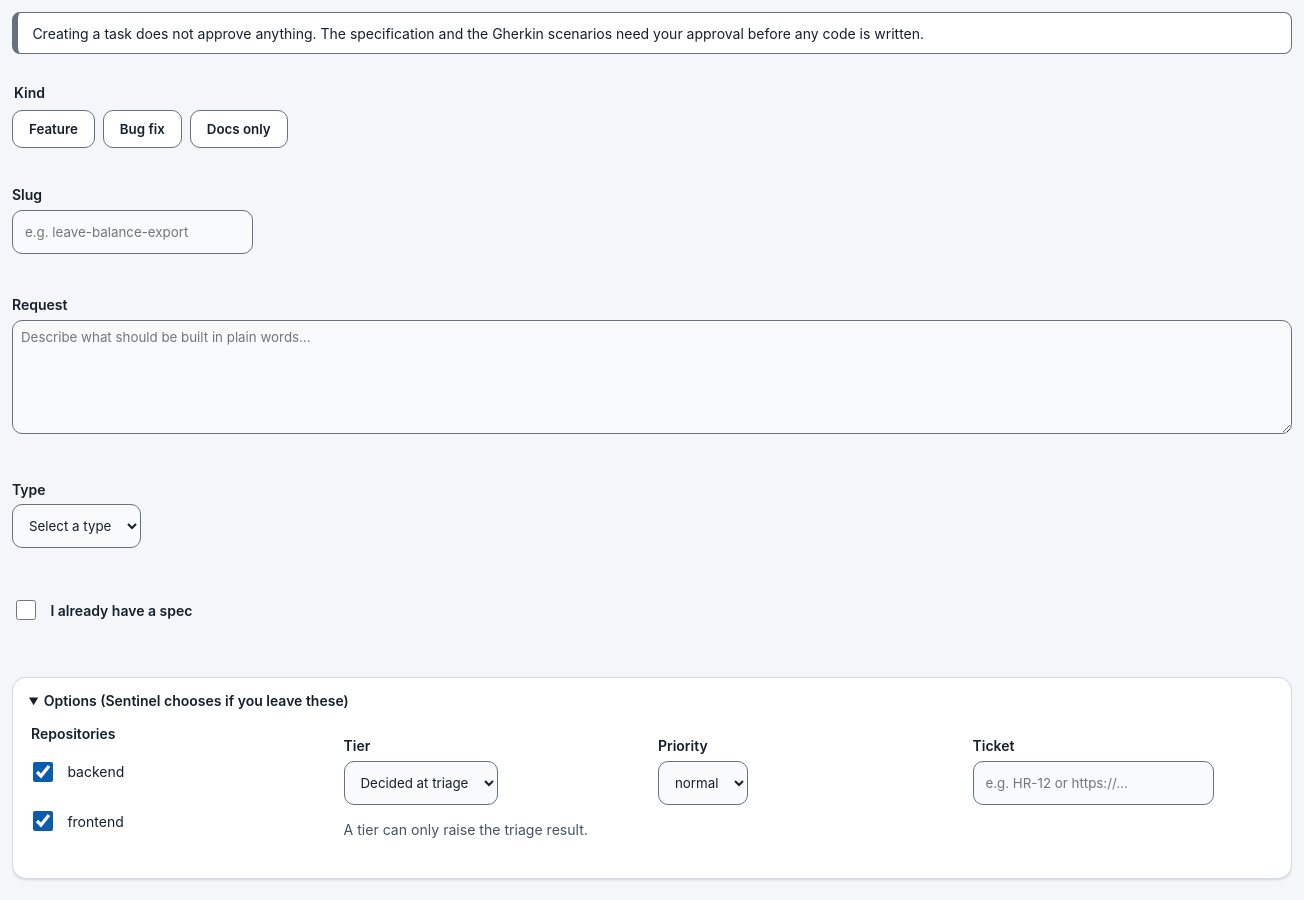
Scenario: AC-TSK-01n the form checks fields before sending › AC-TSK-01n field slug value Bad Slug
This screenshot has width=1304, height=900.
Type "leave-report" into the field labelled "Slug" at {"x": 132, "y": 232}, box [12,210,253,254]
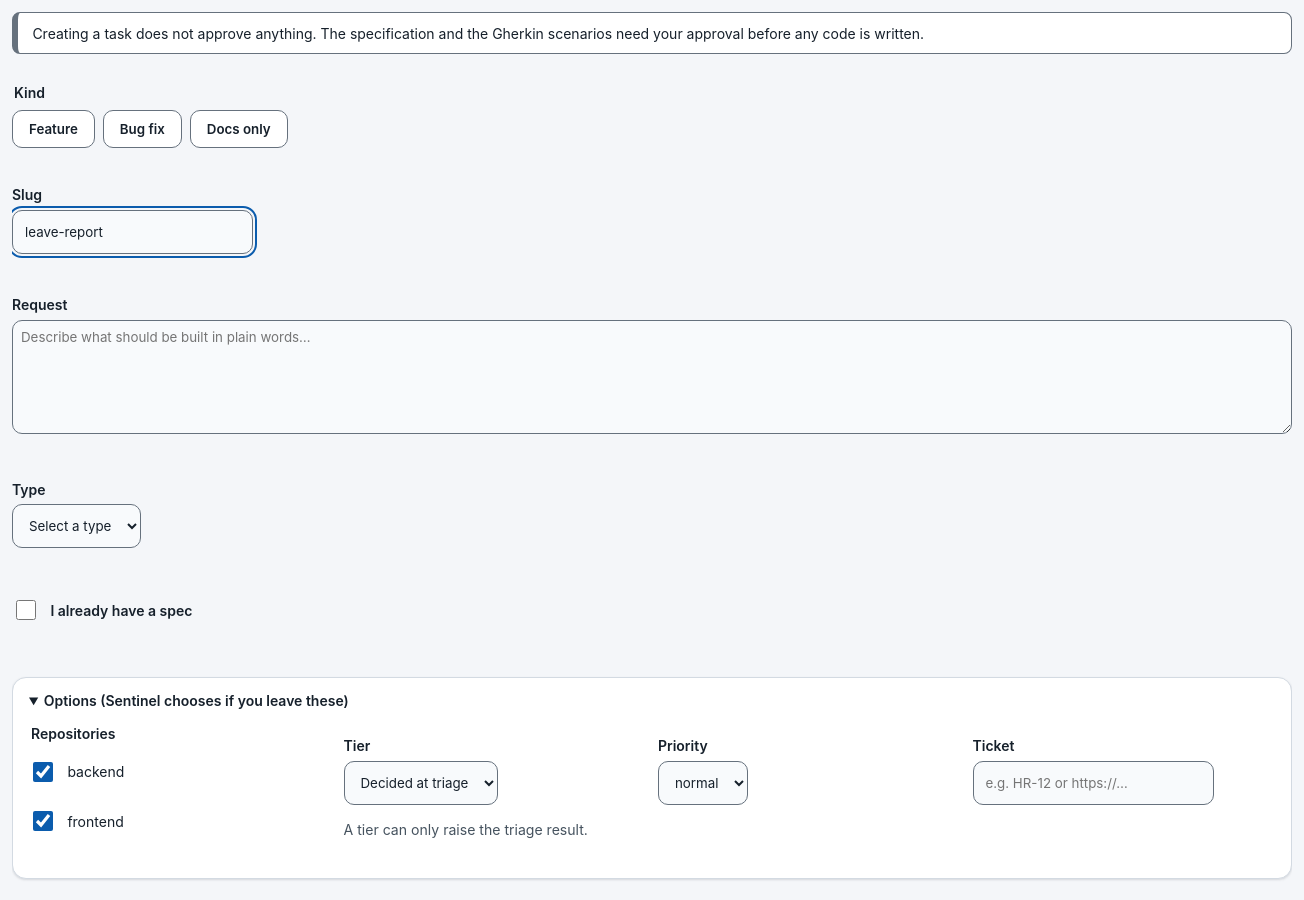
Type "Report leave per team" into the text box labelled "Request" at {"x": 652, "y": 377}, box [12,320,1292,434]
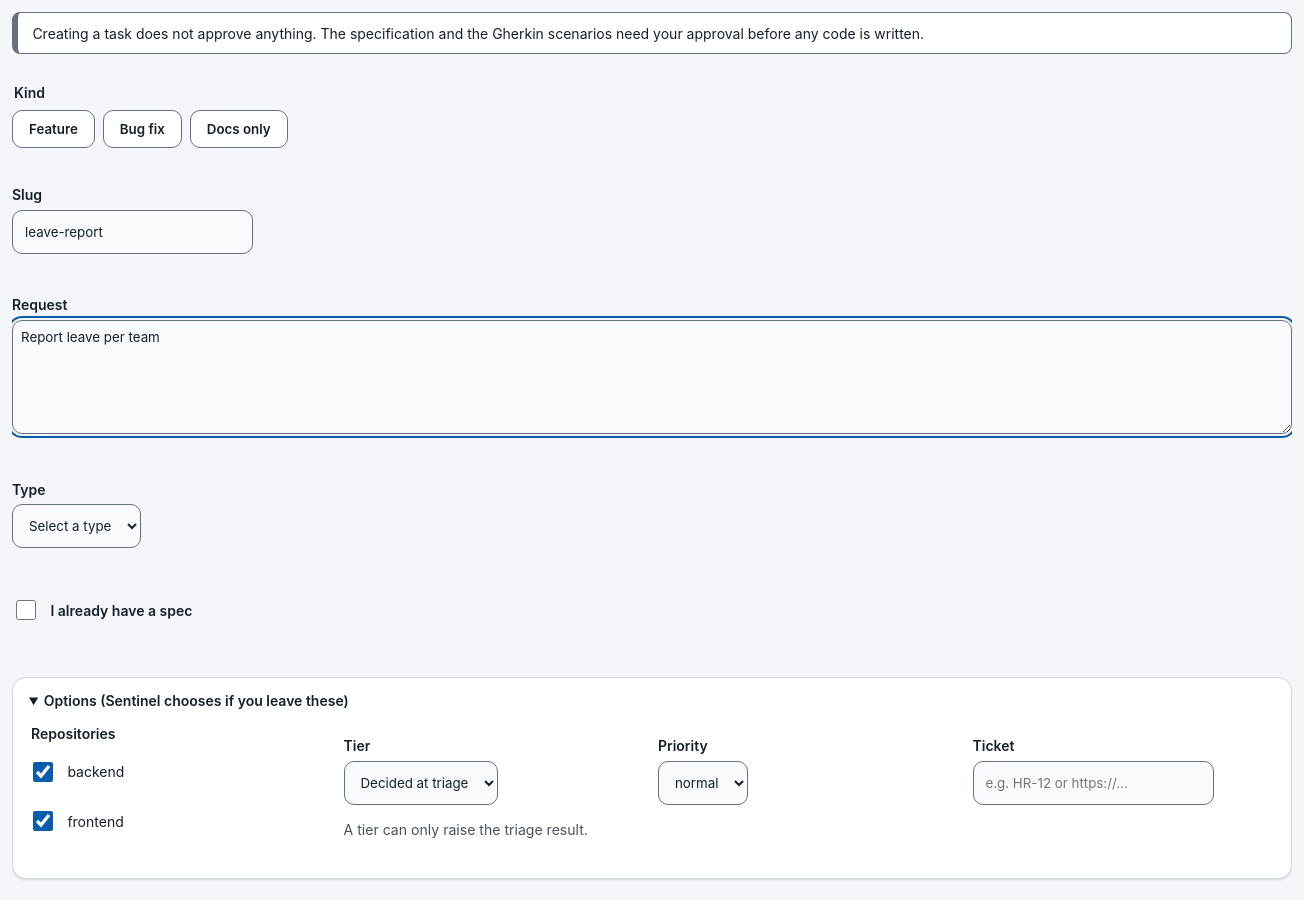
Select "feature" in the dropdown labelled "Type" at {"x": 76, "y": 526}, box [12,504,141,548]
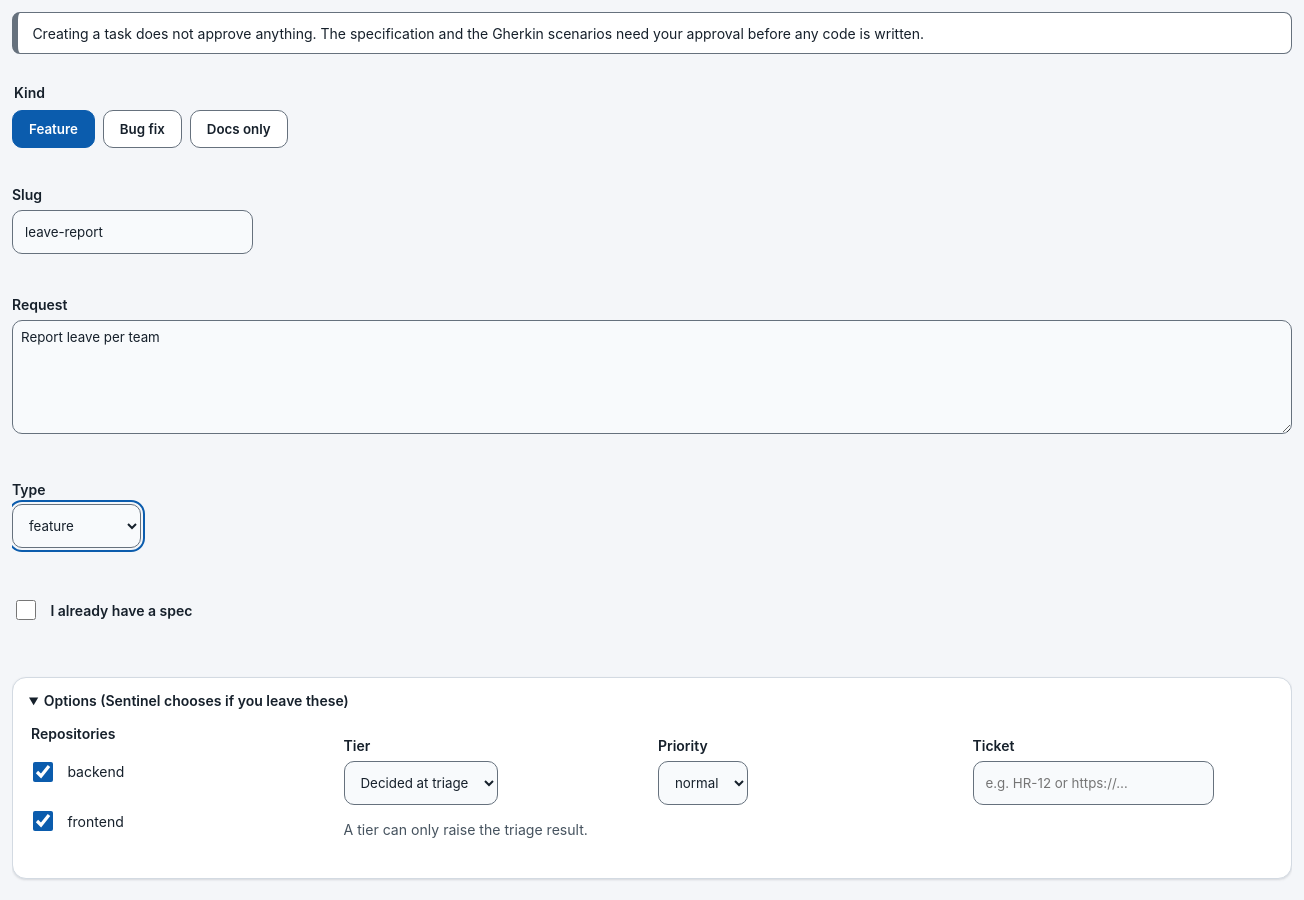
Replace the text in the field labelled "Slug" with "Bad Slug" at {"x": 132, "y": 232}, box [12,210,253,254]
(page scrolled)
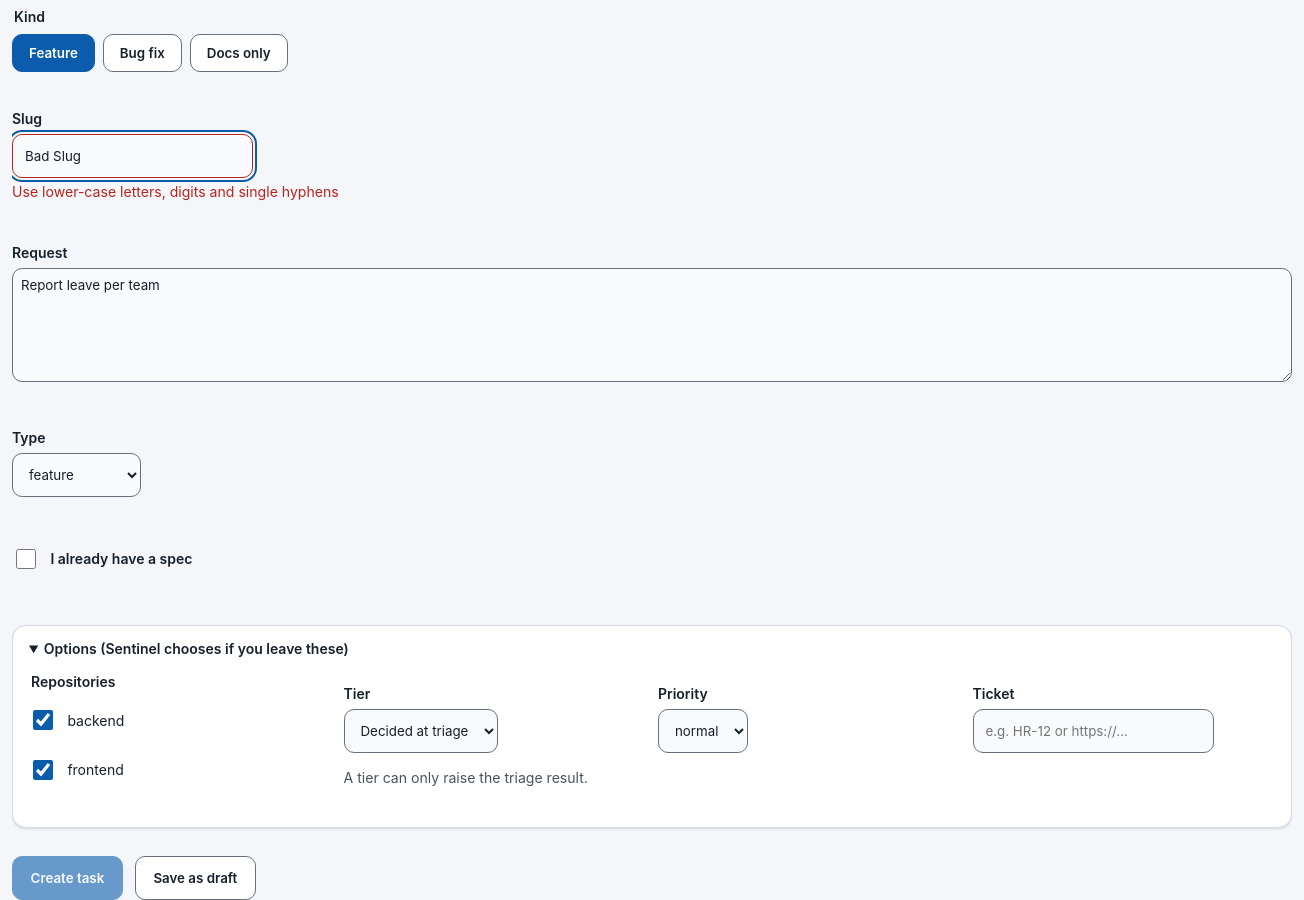
Expected: the button "Create task" is disabled, [12,856,123,899]
Expected: the text "Use lower-case letters, digits and single hyphens" is shown, [12,183,339,200]
